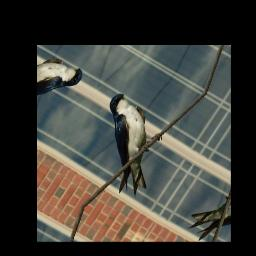Swallow: (68, 89, 185, 204)
